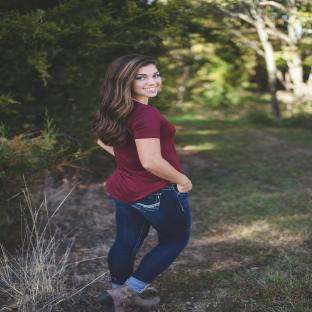Human: (92, 55, 192, 312)
